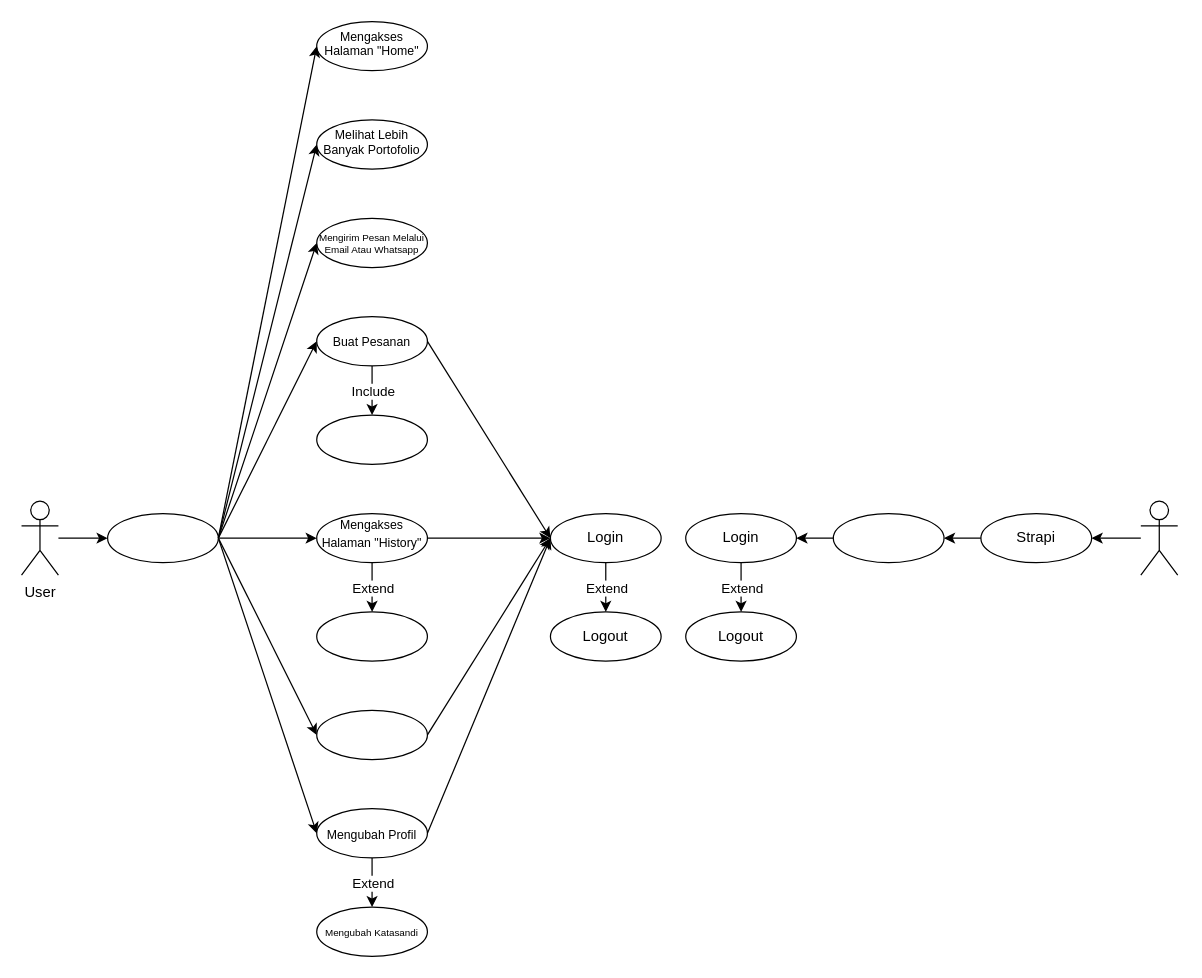
The diagram is 1202 pixels wide and 978 high, and some of its shapes have lost their labels. Here are the shapes that lost their labels. From the top down, the centre of each, then its label:
the point at 371,439: Mengirim Pesan Rincian Pesanan Ke Whatsapp
the point at 162,537: Hastinulc Makeup Art
the point at 888,537: Mengubah Status Pesanan
the point at 1159,537: Admin
the point at 371,636: Memberi Ulasan
the point at 371,734: Mengisi Kuesioner
